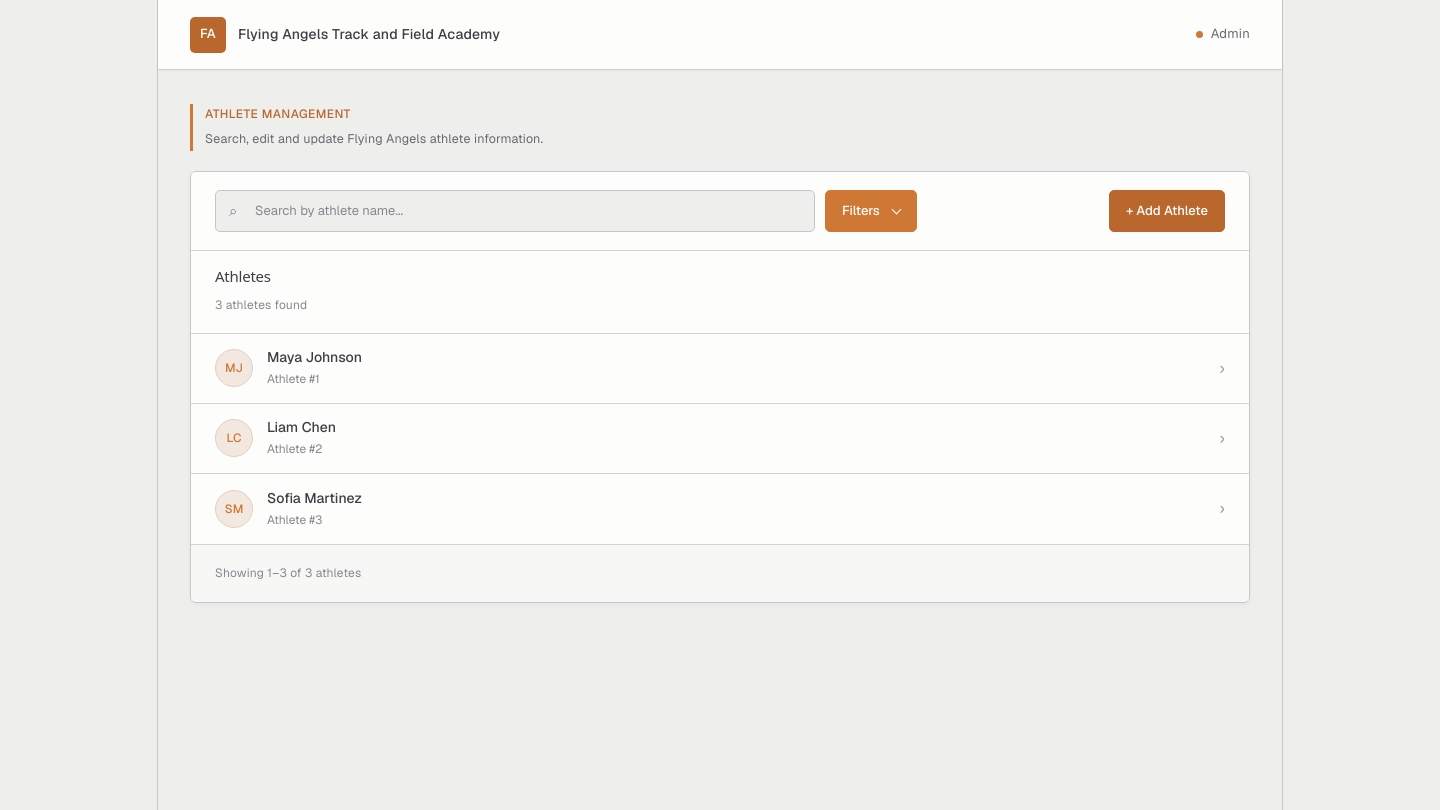
Scenario: UC-01 Athlete Directory - search › restores the full list when 'Clear all' is clicked
Expected: the button "Maya Johnson" is shown, [191,334,1249,404]
In the field with placeholder "Search by athlete name...": (515, 210) [215,190,815,232], type "zzzz"
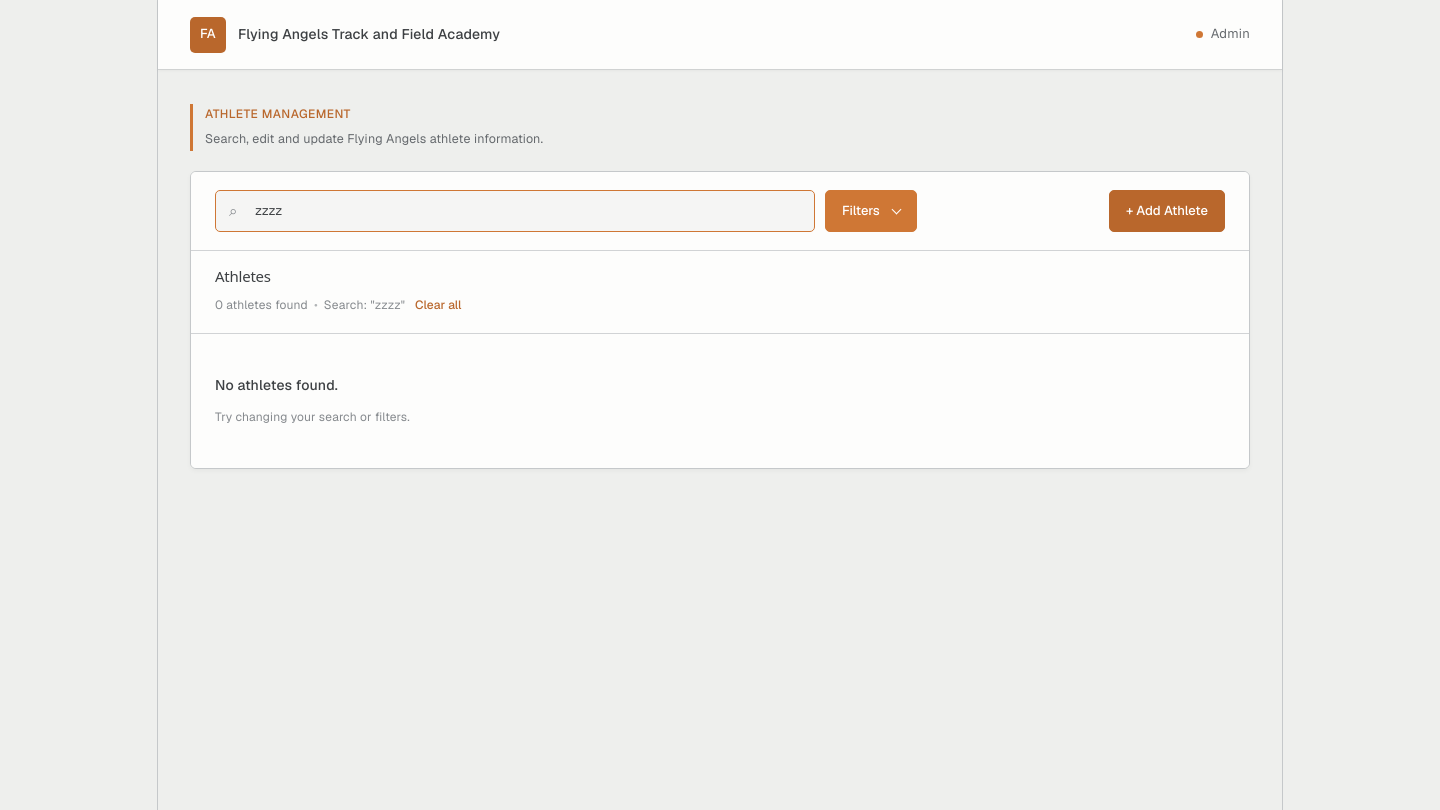
Click the button "Clear all": (438, 305) [415,292,462,318]
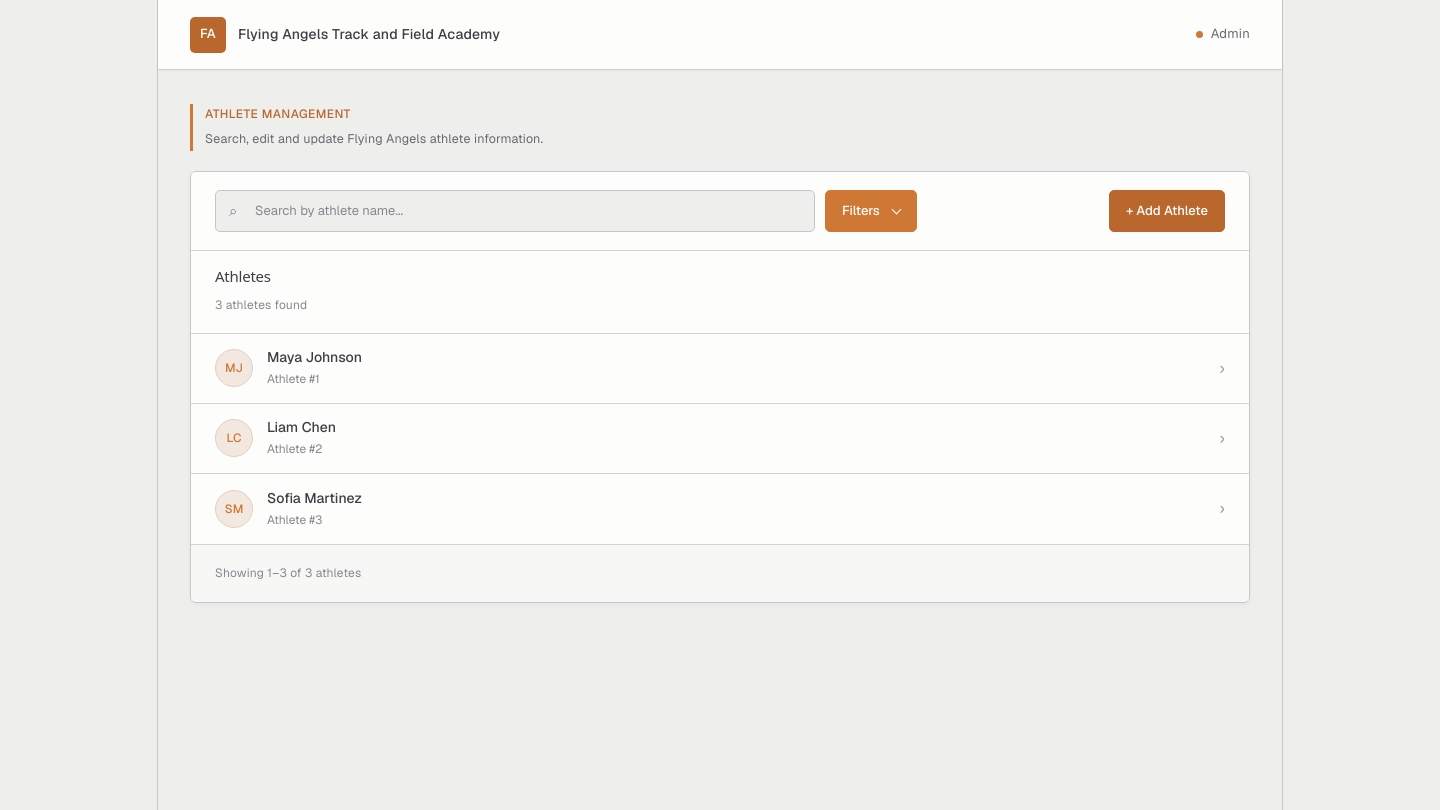
Expected: the field with placeholder "Search by athlete name..." is empty, [215,190,815,232]
Expected: the number of buttons "Athlete #" is 3, [191,334,1249,404]; [191,404,1249,474]; [191,474,1249,544]
